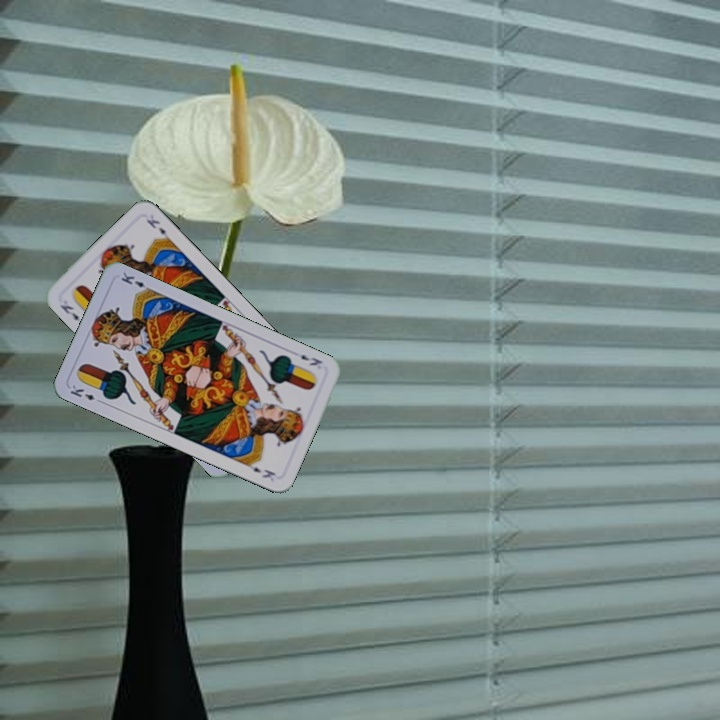EK: (66, 381, 105, 406), (56, 300, 81, 323), (297, 350, 325, 368)
